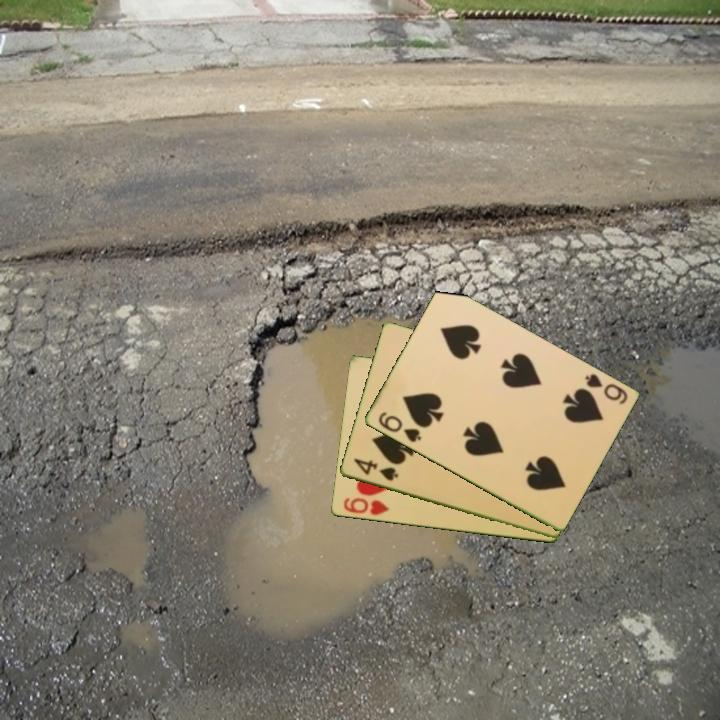4s: (350, 455, 401, 484)
6h: (339, 495, 392, 518)
6s: (374, 408, 424, 446), (581, 370, 630, 408)
